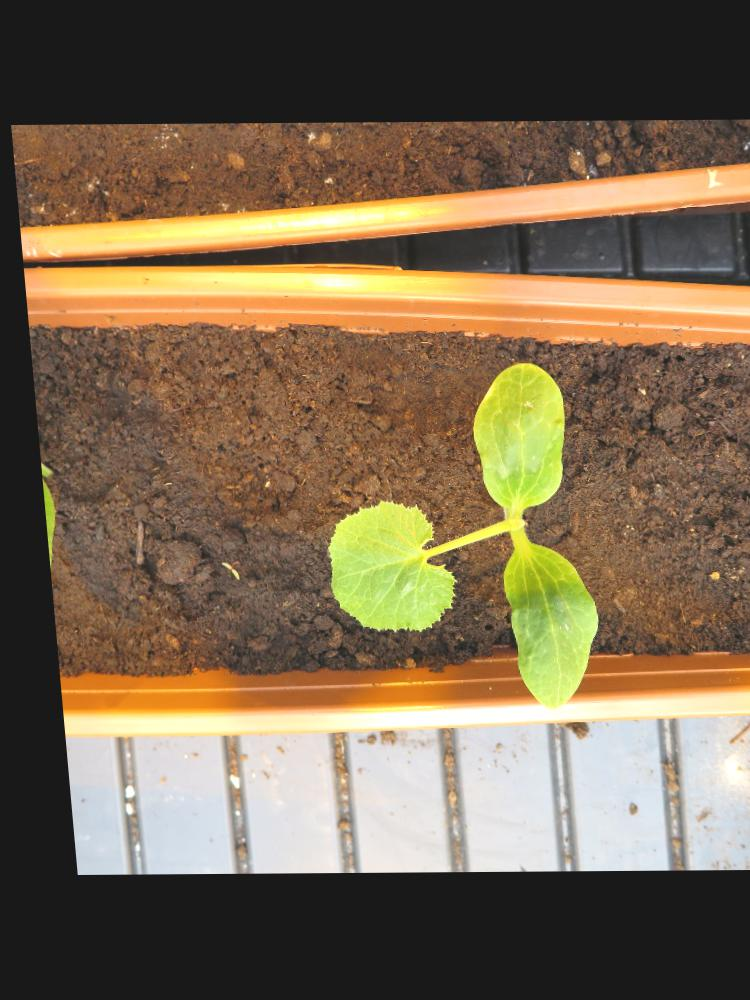crop: (292, 355, 597, 712)
weed: (207, 560, 232, 581)
